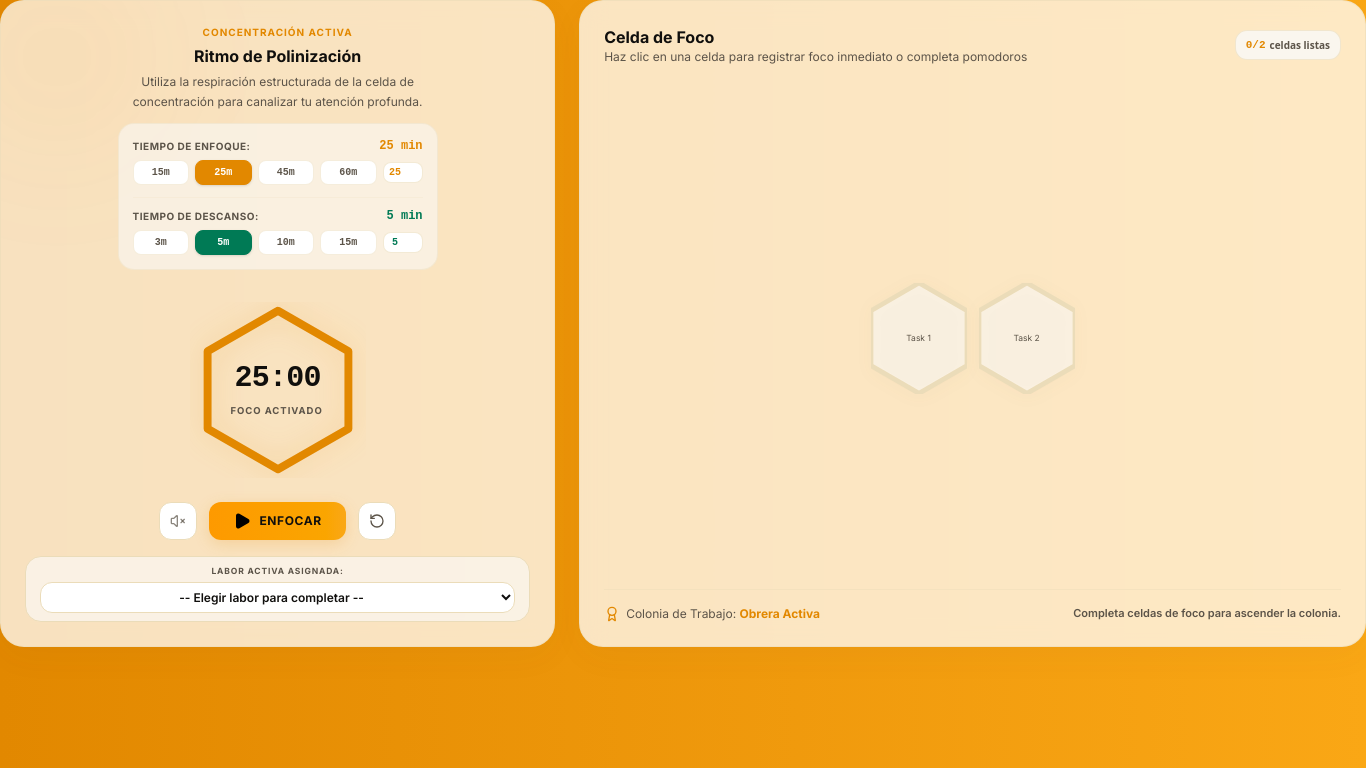
FocusTimer › toggles sound on/off
Click the button titled "Silenciado": coordinates (178, 521) [159,502,197,540]
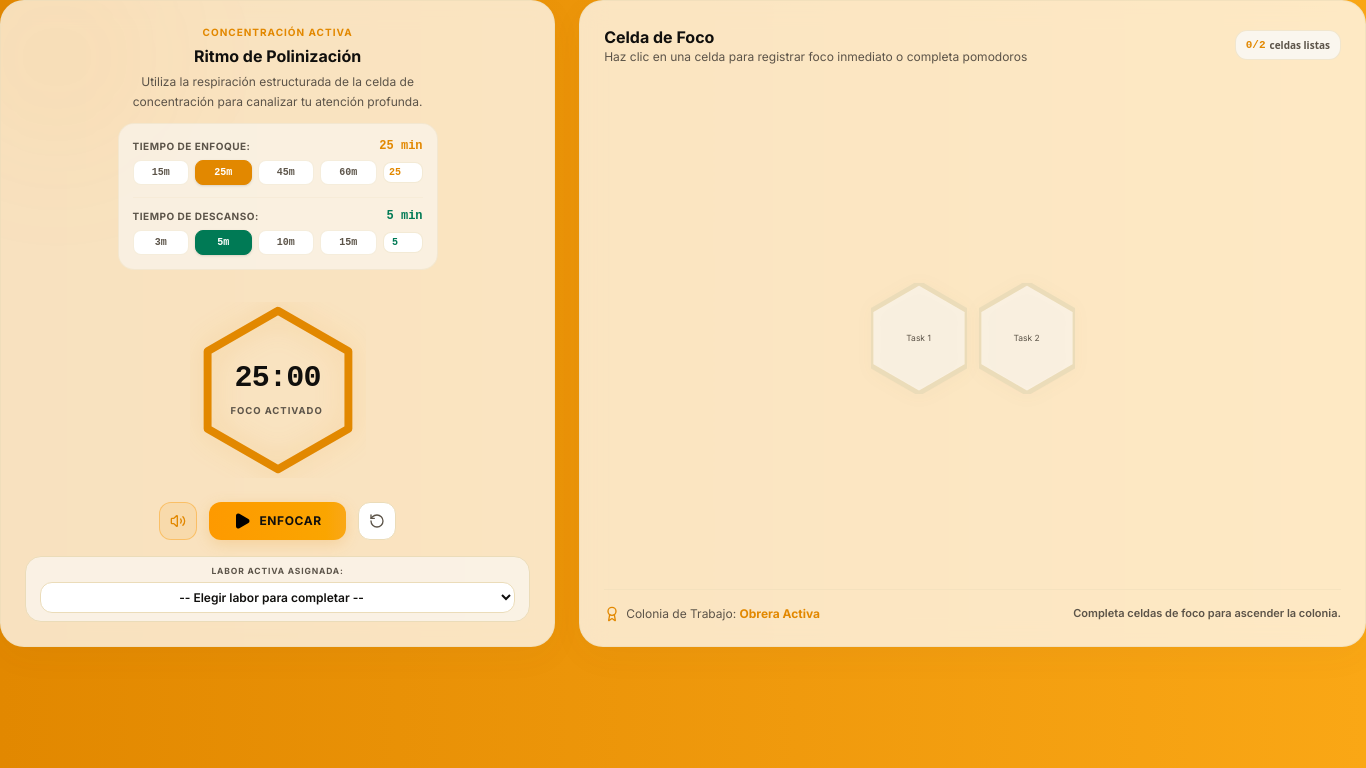
Check: the button titled "Zumbido abeja activado" is shown, box [159,502,197,540]
